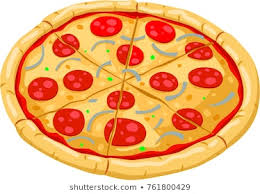pizza: (3, 3, 260, 180)
